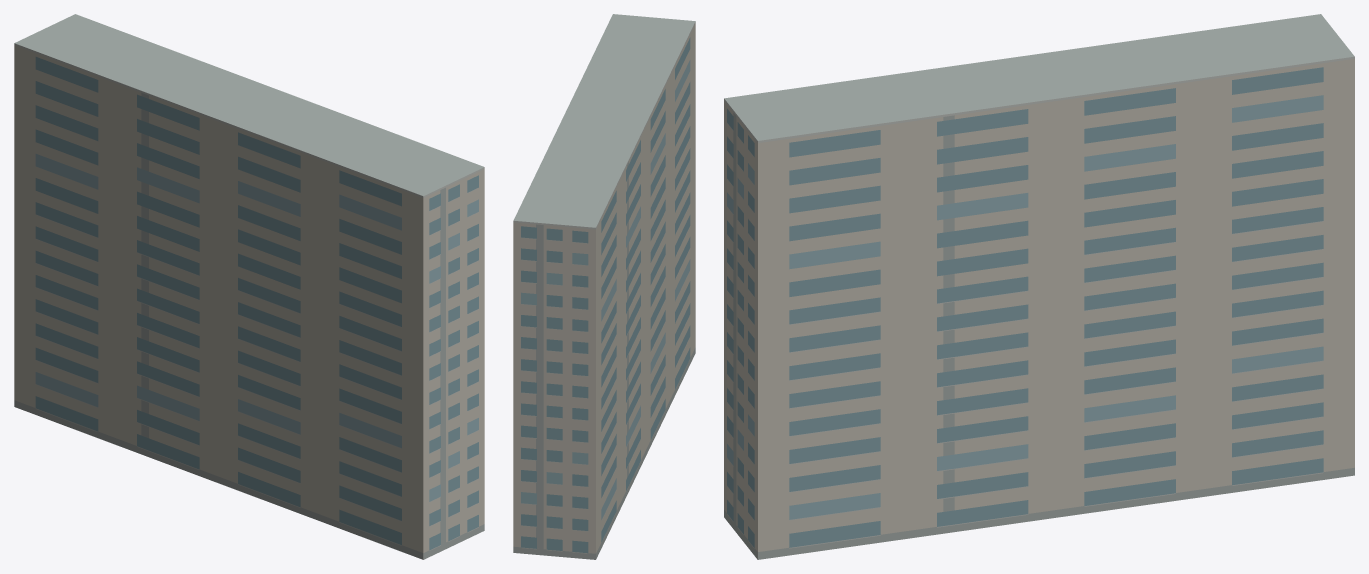
The model's file is residential-678a8785-84ab-4fcb-8110-d9bcc37152d4.glb.
3 views of the same model, side by side, from view 1: azimuth 30°, elevation 25°; view 2: azimuth 150°, elevation 25°; view 3: azimuth 270°, elevation 25° (orthographic). The views are drawn at different scales.
Parts seen in each view (by area): view 1: residential-678a8785-84ab-4fcb-8110-d9bcc37152d4.tmp; view 2: residential-678a8785-84ab-4fcb-8110-d9bcc37152d4.tmp; view 3: residential-678a8785-84ab-4fcb-8110-d9bcc37152d4.tmp.
Boxes of the visible parts, box(x1,y1,x2,y2) form: residential-678a8785-84ab-4fcb-8110-d9bcc37152d4.tmp: box(14, 14, 484, 559); residential-678a8785-84ab-4fcb-8110-d9bcc37152d4.tmp: box(513, 14, 695, 559); residential-678a8785-84ab-4fcb-8110-d9bcc37152d4.tmp: box(724, 14, 1354, 559).
Size of the model in its own units: 29.75 by 45.75 by 62.44.
